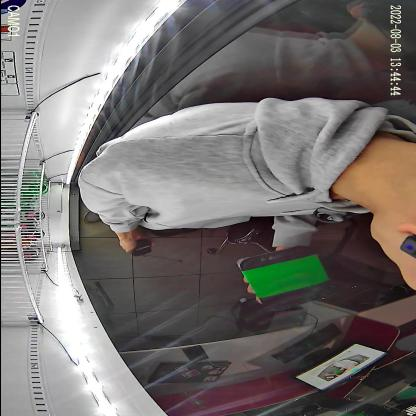green: (233, 245, 336, 311)
